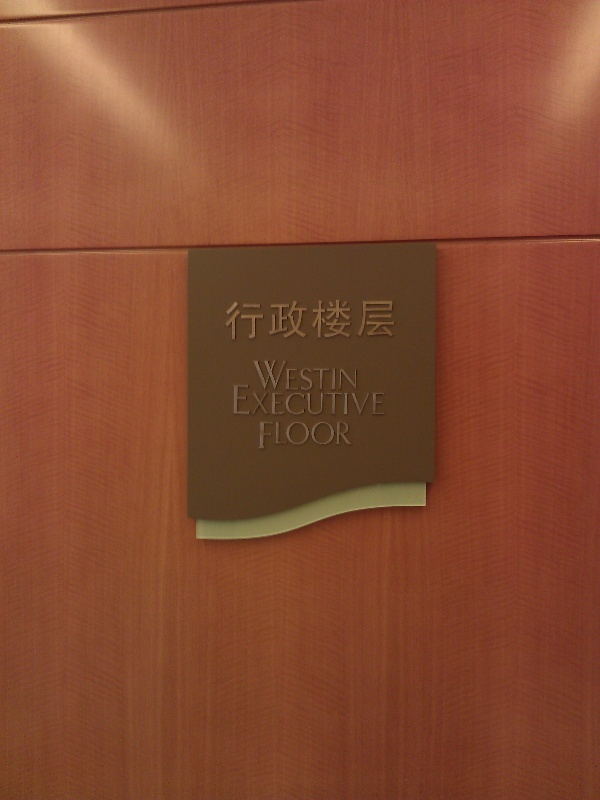text: (225, 298, 240, 340), (241, 298, 256, 340), (257, 298, 272, 340), (273, 298, 288, 340), (289, 298, 304, 340), (305, 298, 320, 340), (321, 298, 336, 340), (337, 298, 352, 340), (353, 298, 368, 340), (369, 298, 384, 340), (257, 360, 272, 392), (273, 360, 288, 392), (289, 360, 304, 392), (305, 360, 320, 392), (321, 360, 336, 392), (337, 360, 352, 392), (241, 384, 256, 416), (257, 384, 272, 416), (273, 384, 288, 416), (289, 384, 304, 416), (305, 384, 320, 416), (321, 384, 336, 416), (337, 384, 352, 416), (353, 384, 368, 416), (369, 384, 384, 416), (385, 298, 396, 340), (273, 421, 288, 450), (289, 421, 304, 450), (305, 421, 320, 450), (321, 421, 336, 450), (337, 421, 352, 450), (258, 421, 272, 450), (231, 384, 240, 416), (353, 360, 361, 392), (253, 360, 256, 392), (385, 384, 387, 416), (353, 421, 354, 450)
